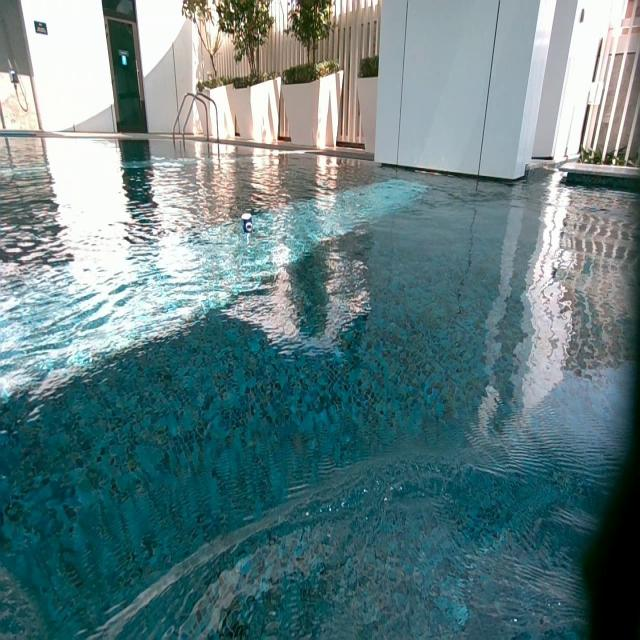Cans: (241, 215, 254, 232)
